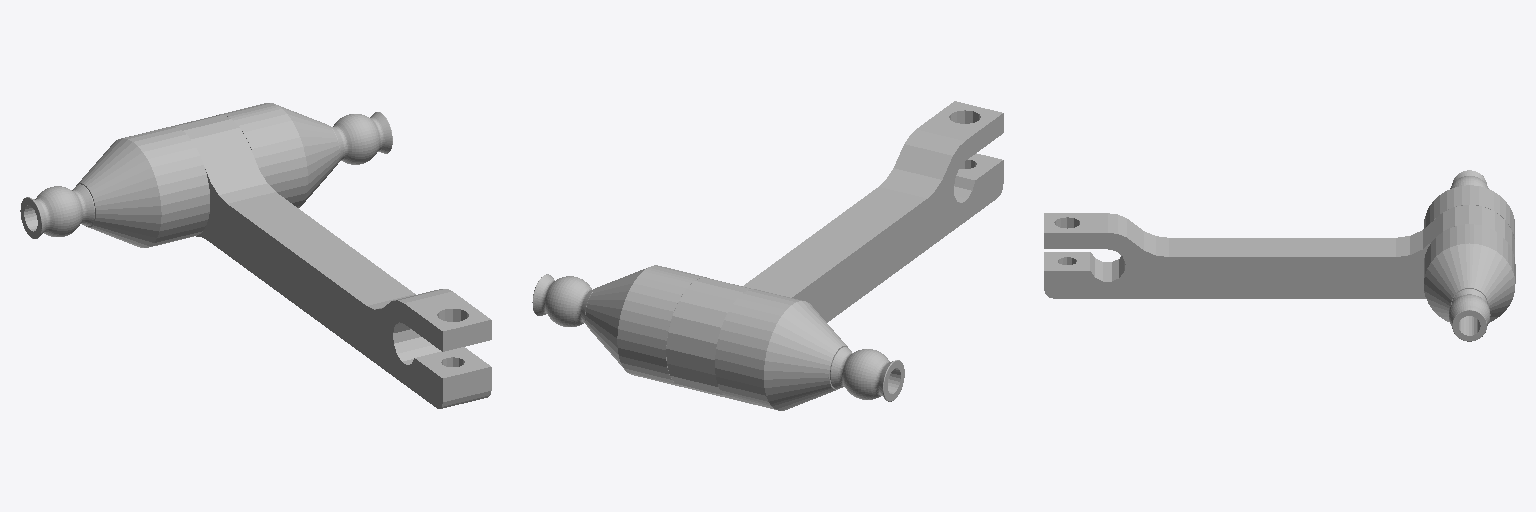
robot.urdf — low_arm.SLDASM:
<robot
  name="low_arm.SLDASM">
  <link
    name="base_link">
    <inertial>
      <origin
        xyz="-2.77555756156289E-17 0.0370629412724317 -0.000618314110826593"
        rpy="0 0 0" />
      <mass
        value="0.0141511989534897" />
      <inertia
        ixx="4.96935651143252E-06"
        ixy="-3.62635980543247E-21"
        ixz="2.11758236813575E-22"
        iyy="6.82249604361698E-07"
        iyz="-1.25279360566371E-07"
        izz="5.41073006740516E-06" />
    </inertial>
    <visual>
      <origin
        xyz="0 0 0"
        rpy="0 0 0" />
      <geometry>
        <mesh
          filename="package://low_arm.SLDASM/meshes/base_link.STL" />
      </geometry>
      <material
        name="">
        <color
          rgba="0.752941176470588 0.752941176470588 0.752941176470588 1" />
      </material>
    </visual>
    <collision>
      <origin
        xyz="0 0 0"
        rpy="0 0 0" />
      <geometry>
        <mesh
          filename="package://low_arm.SLDASM/meshes/base_link.STL" />
      </geometry>
    </collision>
  </link>
</robot>

--- What the picture shows (computed from the rendered views, not written in the file) ---
Views: 3 orthographic renders of the robot side by side, from view 1: azimuth 30°, elevation 25°; view 2: azimuth 150°, elevation 25°; view 3: azimuth 270°, elevation 25°.
Robot: low_arm.SLDASM — 1 links, 0 joints (none); root link base_link; default pose: all joints at 0.
Links seen in each view (by area): view 1: base_link; view 2: base_link; view 3: base_link.
Link boxes in pixels (x1,y1,x2,y2): base_link: (20,103,491,408); base_link: (532,101,1003,410); base_link: (1044,170,1515,341).
Size in the robot's own frame: 0.0457 by 0.0651 by 0.0127 metres.
Meshes: 1 distinct files referenced, 1 mesh visuals loaded (1 binary STL).